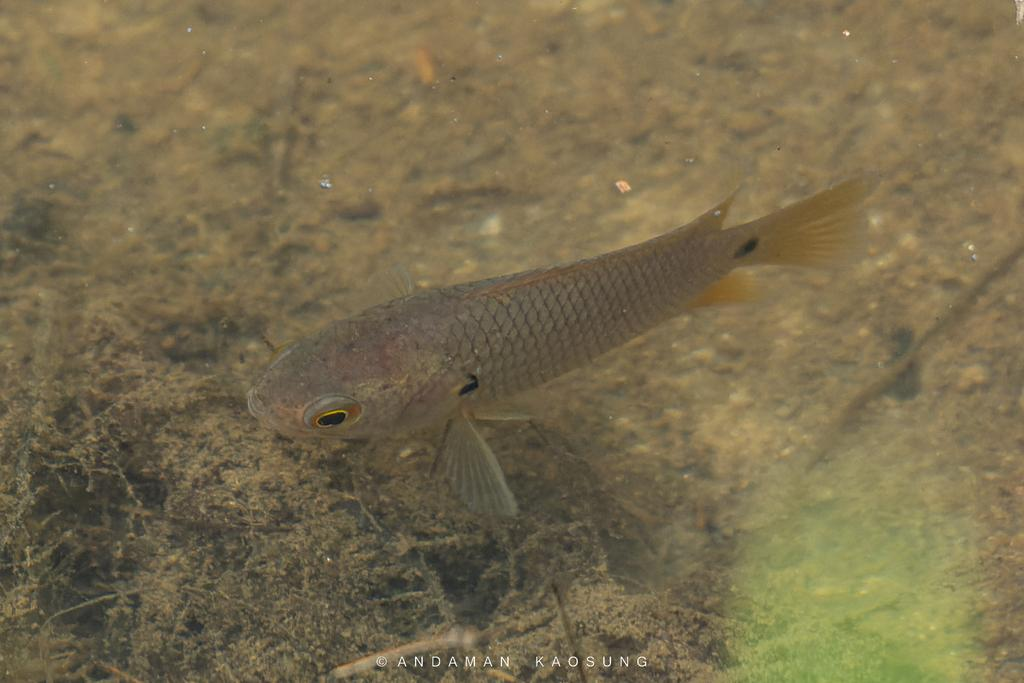Climbing Perch: (247, 163, 885, 517)
